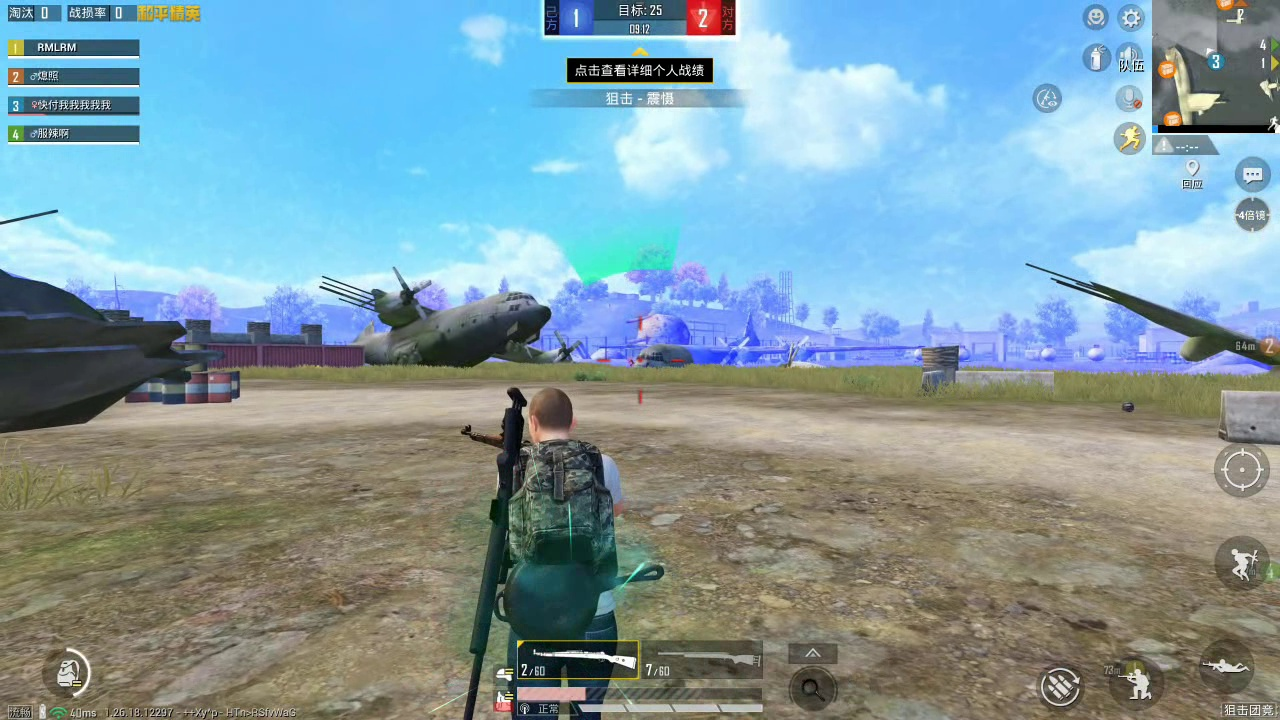enemy: (627, 357, 633, 365)
